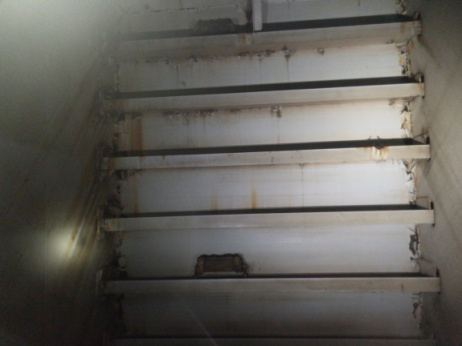corrosion: (191, 247, 252, 274), (97, 236, 123, 277), (106, 170, 130, 211), (123, 117, 148, 156), (392, 43, 419, 74), (402, 229, 424, 254), (401, 159, 422, 182), (402, 98, 416, 123)
